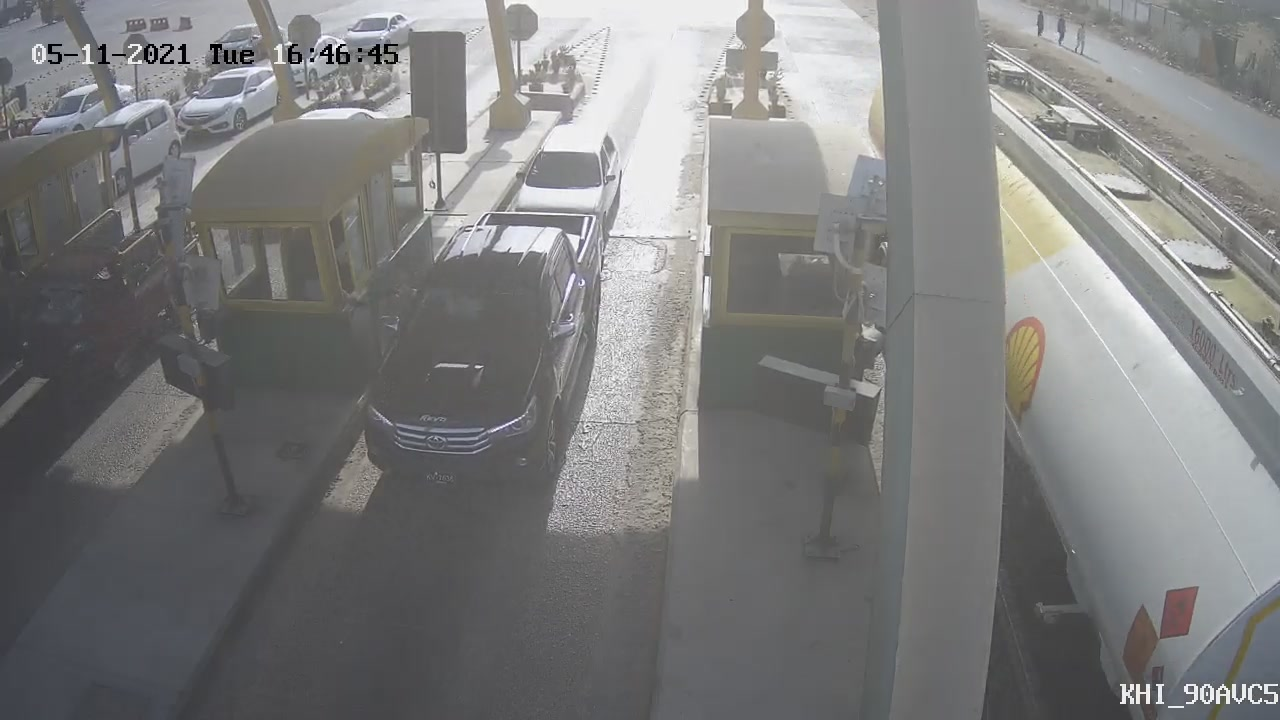F1: (343, 192, 618, 526)
